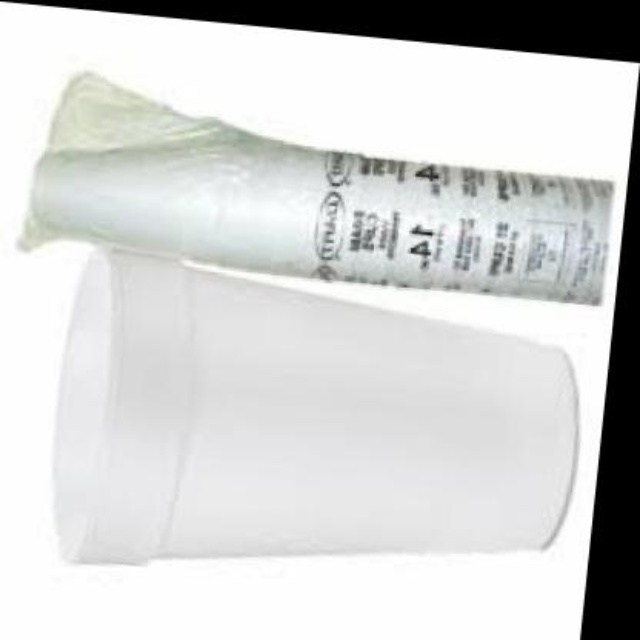trash: (22, 72, 614, 562), (55, 249, 575, 562), (23, 72, 612, 302)
